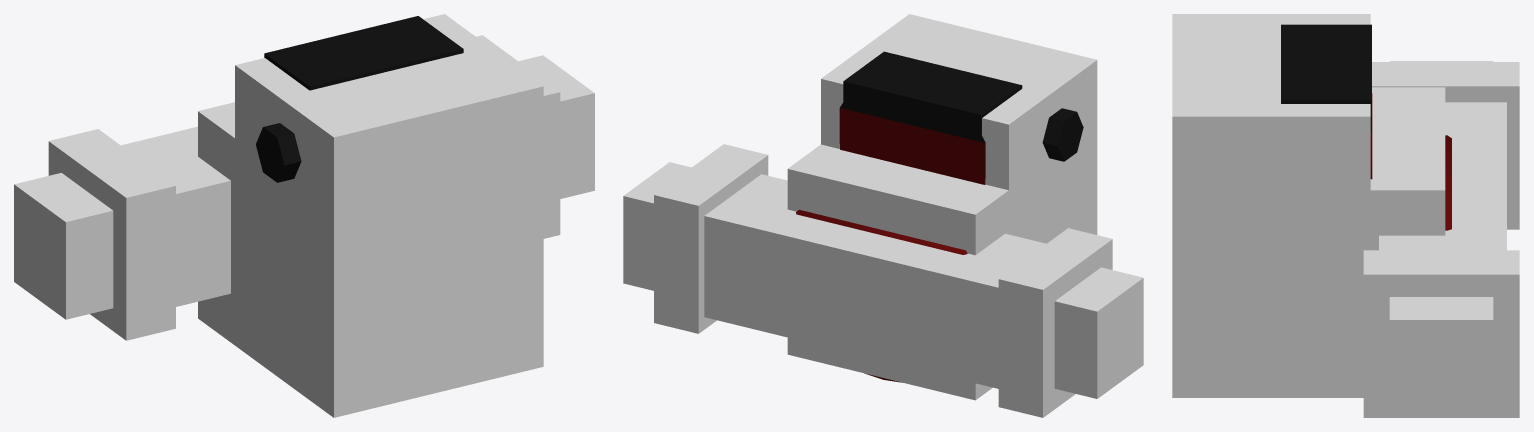
The model's file is nasos_1.FBX.
The picture shows the model from 3 angles, left to right: view 1: azimuth 30°, elevation 25°; view 2: azimuth 150°, elevation 25°; view 3: azimuth 270°, elevation 25°; orthographic projection. The views are drawn at different scales.
Parts seen in each view (by area): view 1: nasos_z_COL, nasos_z; view 2: nasos_z_COL, nasos_z; view 3: nasos_z_COL, nasos_z.
Boxes of the visible parts, bbox=[...] form: nasos_z_COL: bbox=[14, 14, 594, 417]; nasos_z: bbox=[256, 16, 463, 182]; nasos_z_COL: bbox=[623, 14, 1143, 417]; nasos_z: bbox=[796, 51, 1083, 382]; nasos_z_COL: bbox=[1172, 14, 1519, 417]; nasos_z: bbox=[1281, 24, 1451, 230].
Bounding box in the file's own units: 0.2369 × 0.1234 × 0.1341.
